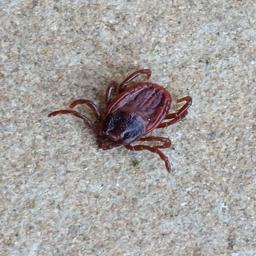Rhipicephalus sanguineus: (46, 68, 193, 176)
